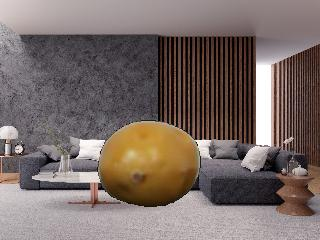potato: (89, 117, 206, 208)
